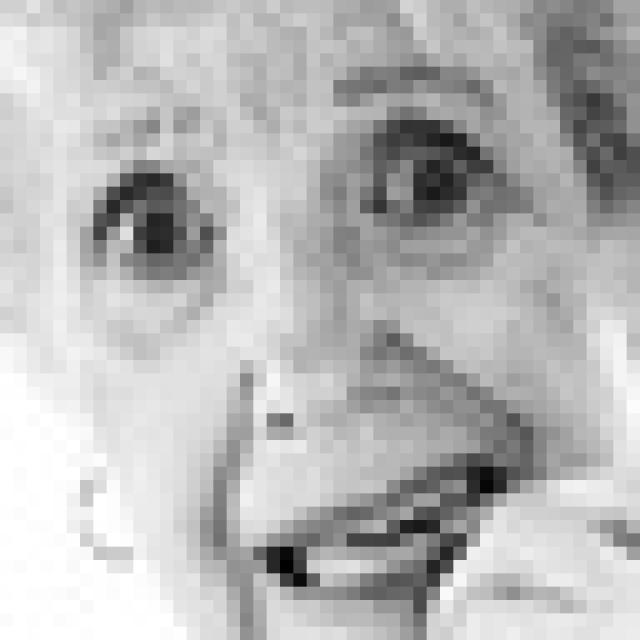fear: (74, 66, 570, 608)
